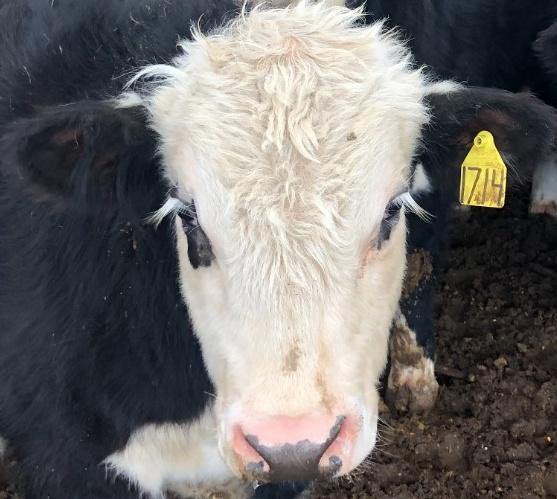muzzles: (210, 396, 382, 486)
